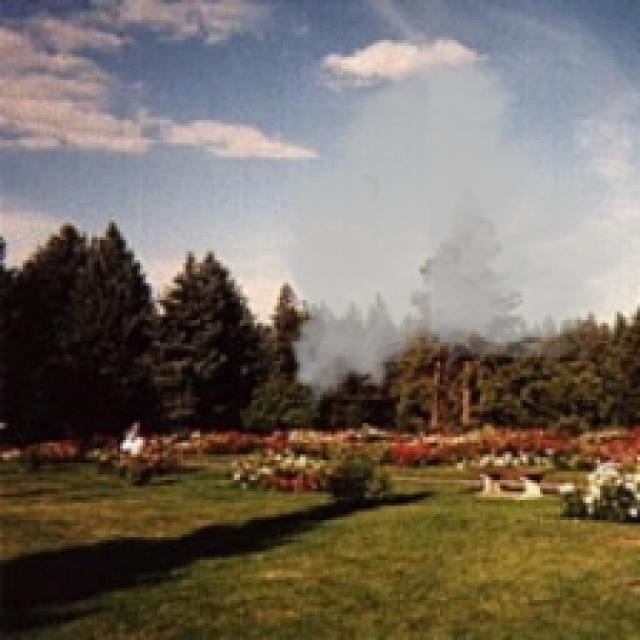smoke: (266, 32, 637, 414)
